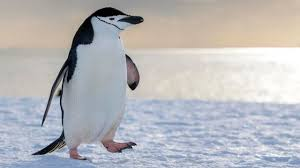Walking: (25, 4, 193, 167)
